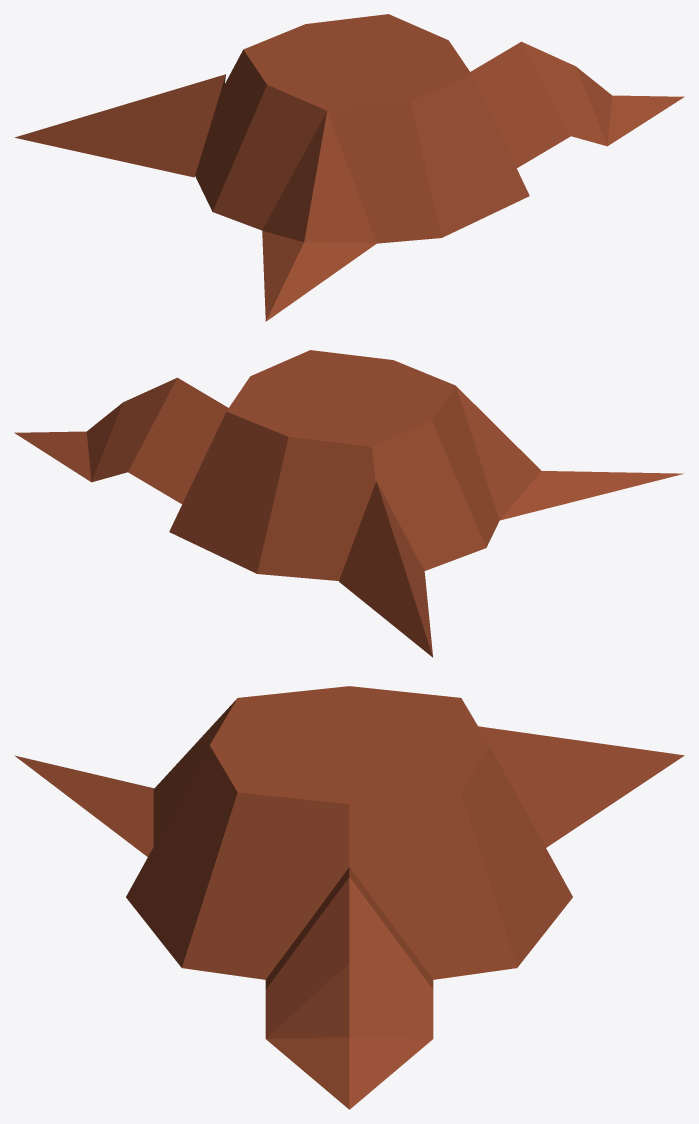
Rendered from willowstump.glb.
The picture shows the model from 3 angles, top to bottom: view 1: azimuth 30°, elevation 25°; view 2: azimuth 150°, elevation 25°; view 3: azimuth 270°, elevation 25°; orthographic projection. The views are drawn at different scales.
Visible parts, largest first — view 1: tree; view 2: tree; view 3: tree.
Boxes of the visible parts, x1=… form: tree: x1=14, y1=14, x2=684, y2=321; tree: x1=14, y1=350, x2=683, y2=657; tree: x1=14, y1=686, x2=684, y2=1109.
Size of the model in its own units: 1.45 by 0.29 by 1.16.
